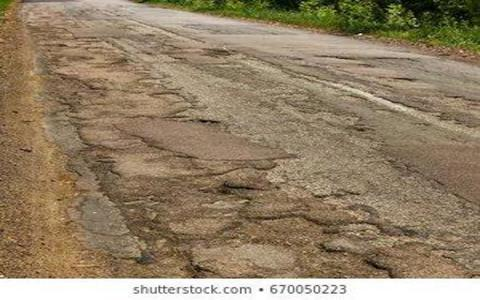patchy roads: (71, 65, 343, 232)
